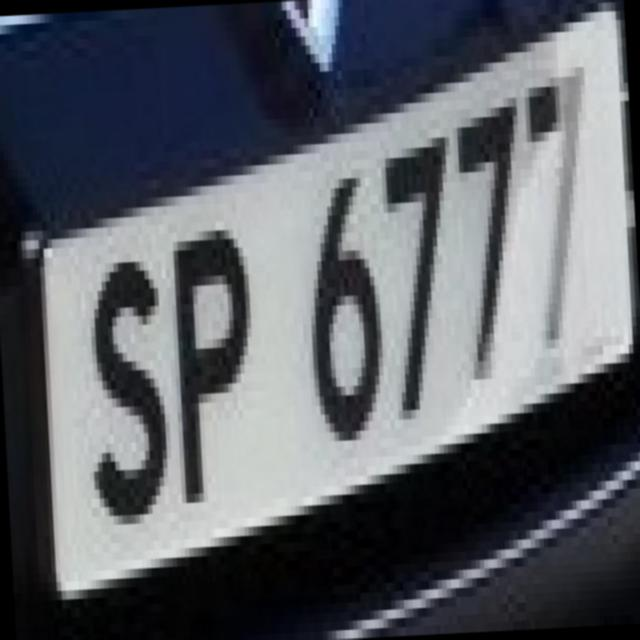6: (290, 150, 396, 443)
7: (361, 110, 464, 421), (468, 68, 574, 370)
P: (150, 210, 269, 504)
S: (60, 233, 174, 518)
